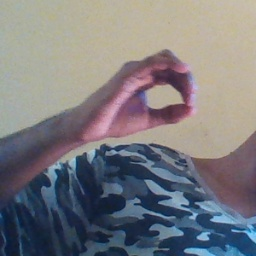O: (80, 42, 205, 150)
